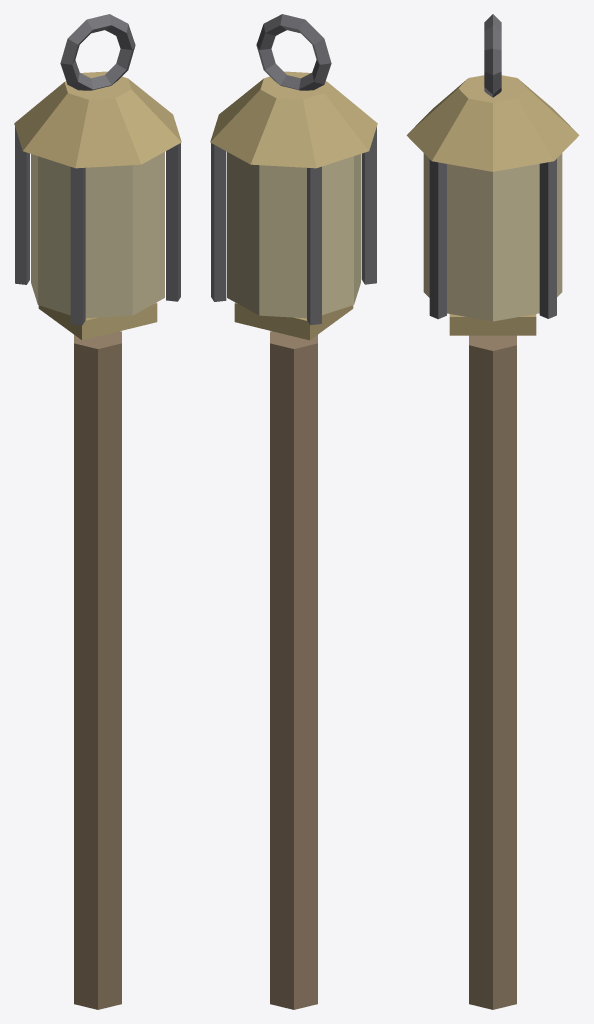
File: keeper_lantern.glb
3 views of the same model, side by side, from view 1: azimuth 30°, elevation 25°; view 2: azimuth 150°, elevation 25°; view 3: azimuth 270°, elevation 25° (orthographic).
Visible parts, largest first — view 1: keeper_lantern; view 2: keeper_lantern; view 3: keeper_lantern.
Boxes of the visible parts, x1,y1,x2,y2 form: keeper_lantern: (14,14,181,1009); keeper_lantern: (210,14,377,1009); keeper_lantern: (406,14,579,1009).
Bounding box in the file's own units: 0.1 × 0.6238 × 0.1.
